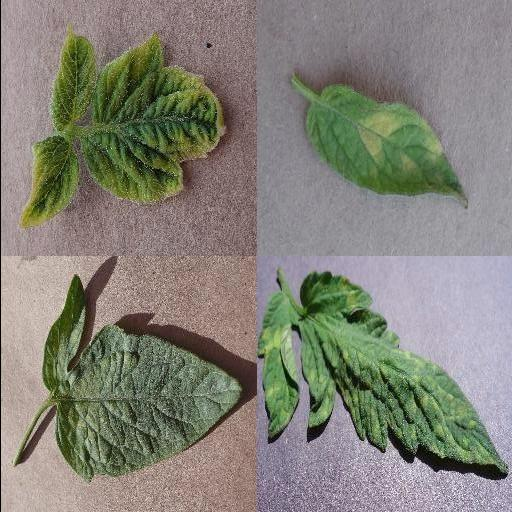Leaf Mold: (301, 271, 507, 471), (303, 84, 469, 210), (256, 295, 300, 439)
Spider Mites: (41, 273, 243, 485)
Yellow Leaf Curl Virus: (83, 38, 225, 204), (20, 135, 80, 233), (47, 27, 95, 130)
